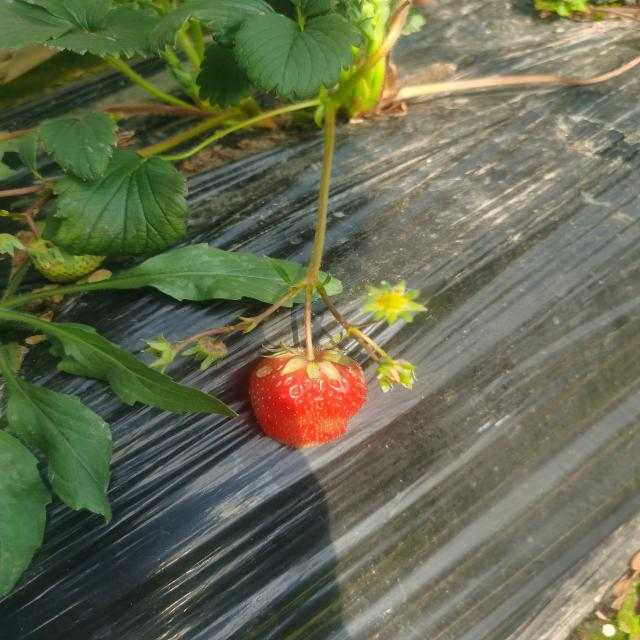stem: (303, 309, 318, 362)
strawberry: (249, 350, 366, 449)
